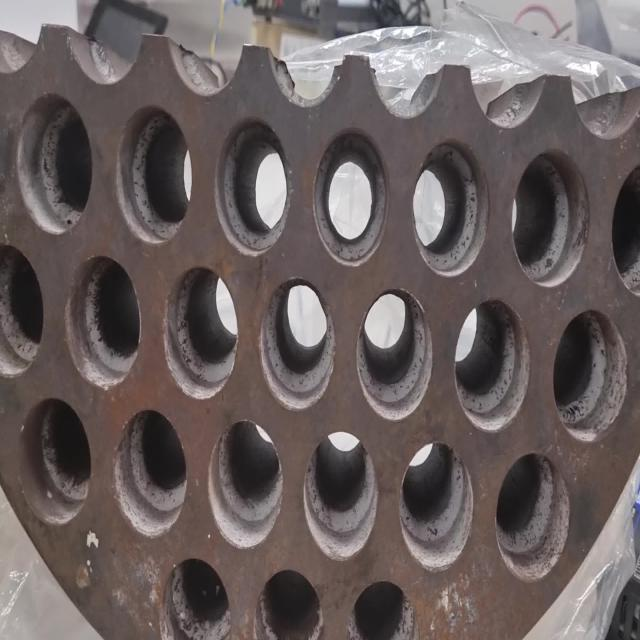Hole: (14, 91, 92, 235), (115, 104, 192, 245), (411, 138, 489, 277), (512, 150, 590, 288), (214, 116, 290, 257), (313, 126, 389, 267), (258, 276, 336, 411), (356, 286, 433, 422), (65, 254, 141, 391), (454, 296, 530, 432), (163, 265, 238, 401), (552, 308, 628, 442), (302, 429, 378, 562), (495, 451, 571, 583), (399, 440, 474, 572), (112, 408, 188, 538), (208, 419, 283, 550), (19, 394, 92, 526), (160, 554, 232, 640), (0, 240, 44, 378), (253, 567, 324, 640), (347, 578, 419, 640), (610, 158, 640, 296)
